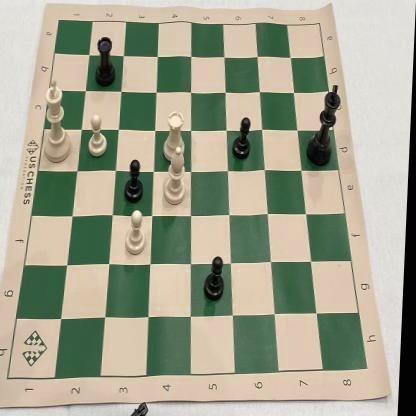black-king: (306, 82, 344, 168)
black-pawn: (204, 251, 232, 306), (122, 156, 148, 206), (232, 111, 253, 164)
black-rook: (92, 34, 120, 90)
white-bishop: (161, 142, 192, 210)
white-king: (40, 73, 79, 168)
white-pawn: (122, 208, 152, 259), (87, 109, 113, 160)
white-rook: (162, 106, 190, 166)
